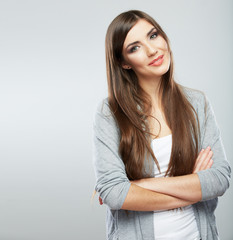teen: (108, 3, 176, 97)
